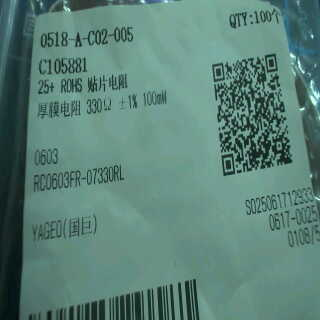330R: (83, 93, 115, 118)
